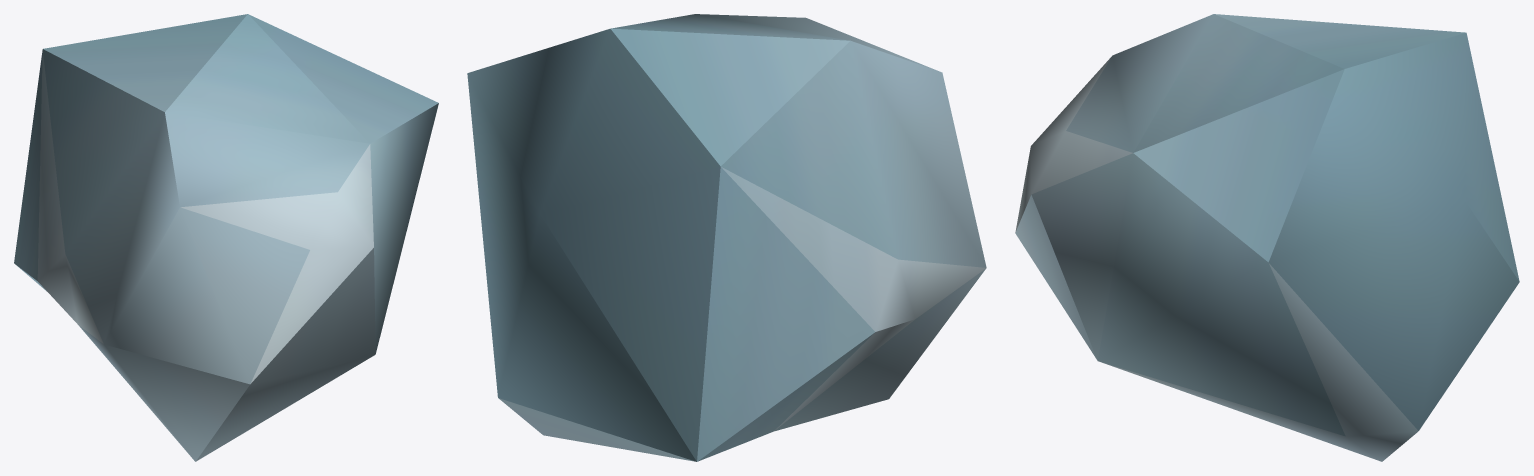
The model's file is silver_nugget_small.glb.
3 views of the same model, side by side, from view 1: azimuth 30°, elevation 25°; view 2: azimuth 150°, elevation 25°; view 3: azimuth 270°, elevation 25° (orthographic). The views are drawn at different scales.
Visible parts, largest first — view 1: Silver_Nugget_Small; view 2: Silver_Nugget_Small; view 3: Silver_Nugget_Small.
Boxes of the visible parts, box(x1,y1,x2,y2) form: Silver_Nugget_Small: box(14, 14, 438, 461); Silver_Nugget_Small: box(467, 14, 986, 461); Silver_Nugget_Small: box(1015, 14, 1519, 461).
Size of the model in its own units: 0.1411 by 0.1204 by 0.1461.
1 material, 1 textured.
